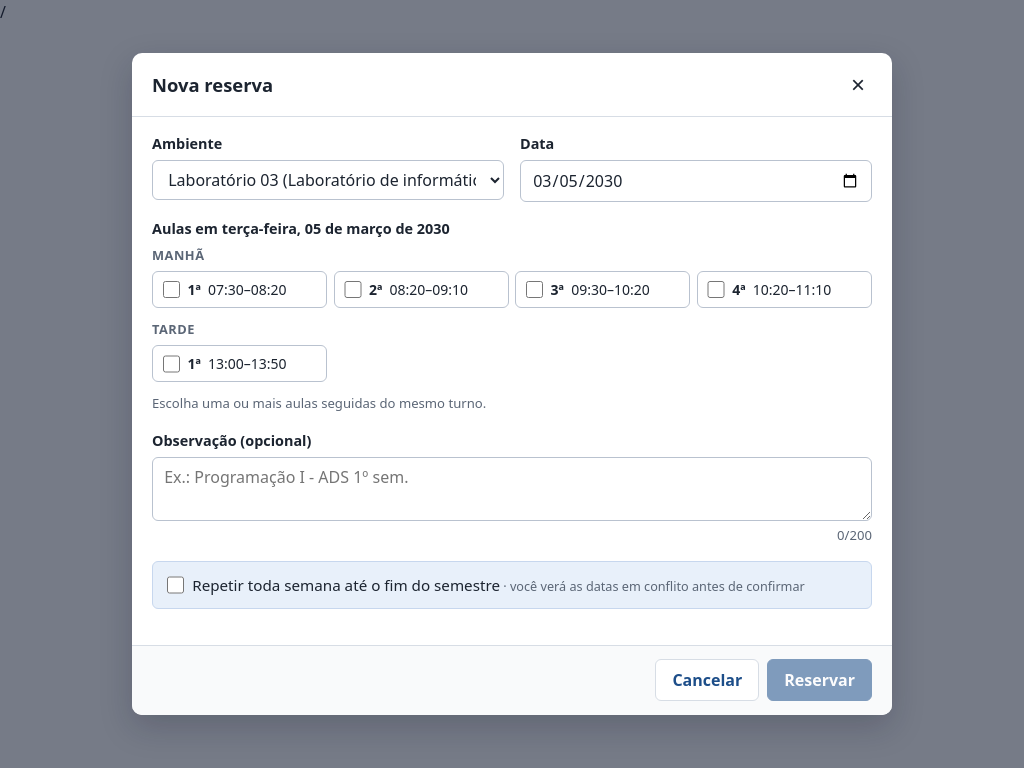
Test: ModalReserva: recorrência com prévia › sem semestre: explica o erro no formulário
Expected: the text "Aulas em" is shown, [152, 219, 450, 238]
Click the 6th checkbox at (175, 585), box [167, 576, 184, 594]
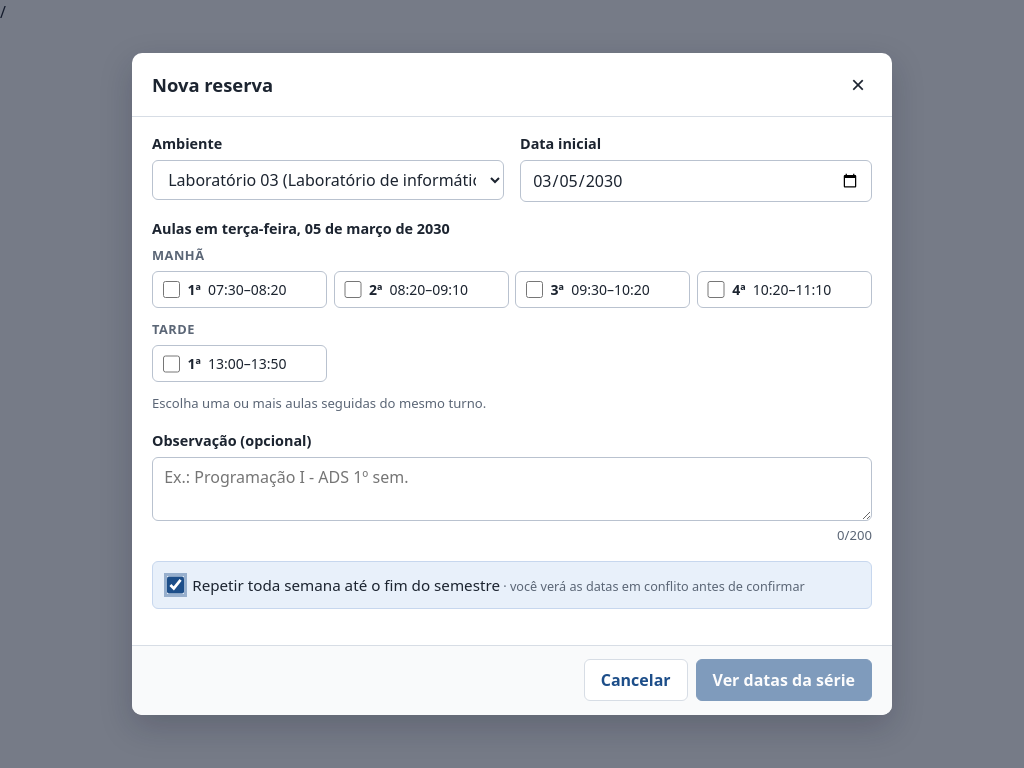
Click the checkbox labelled "1ª 07:30–08:20" at (171, 290), box [163, 281, 180, 298]
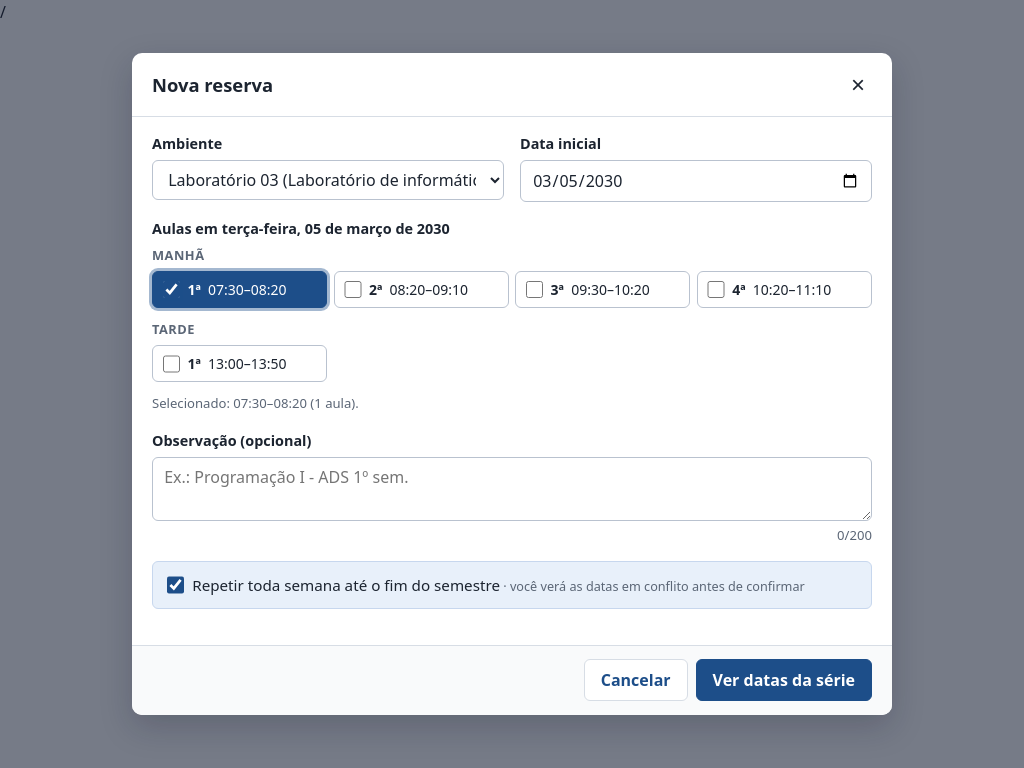
Click the button "Ver datas da série" at (784, 680), box [696, 659, 872, 701]
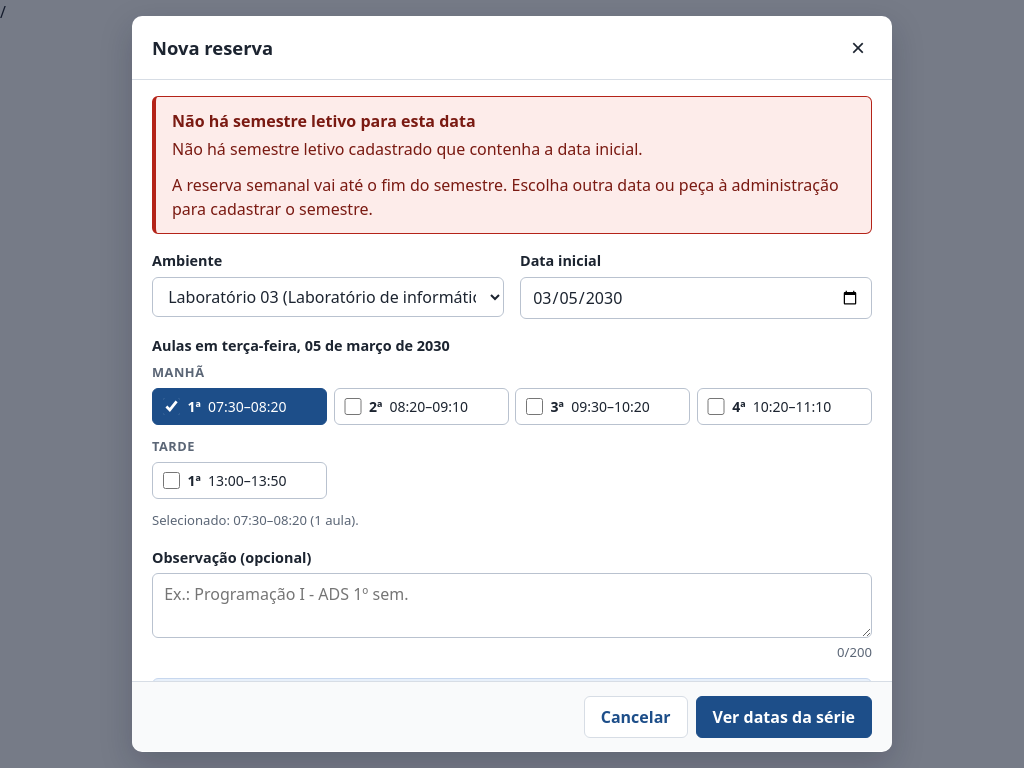
Expected: the text "Não há semestre letivo para esta data" is shown, [172, 110, 476, 132]
